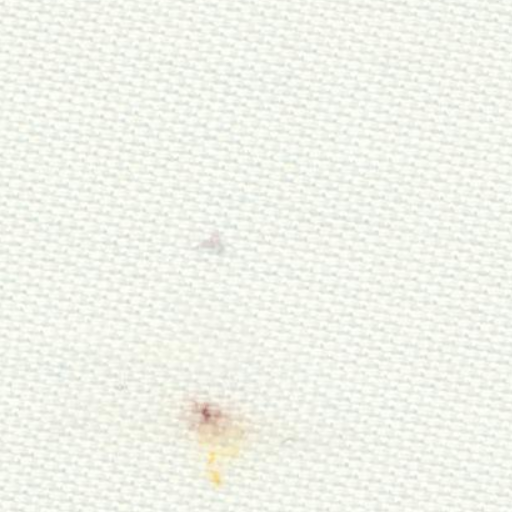WuZi: (162, 379, 270, 494), (181, 214, 237, 270)
